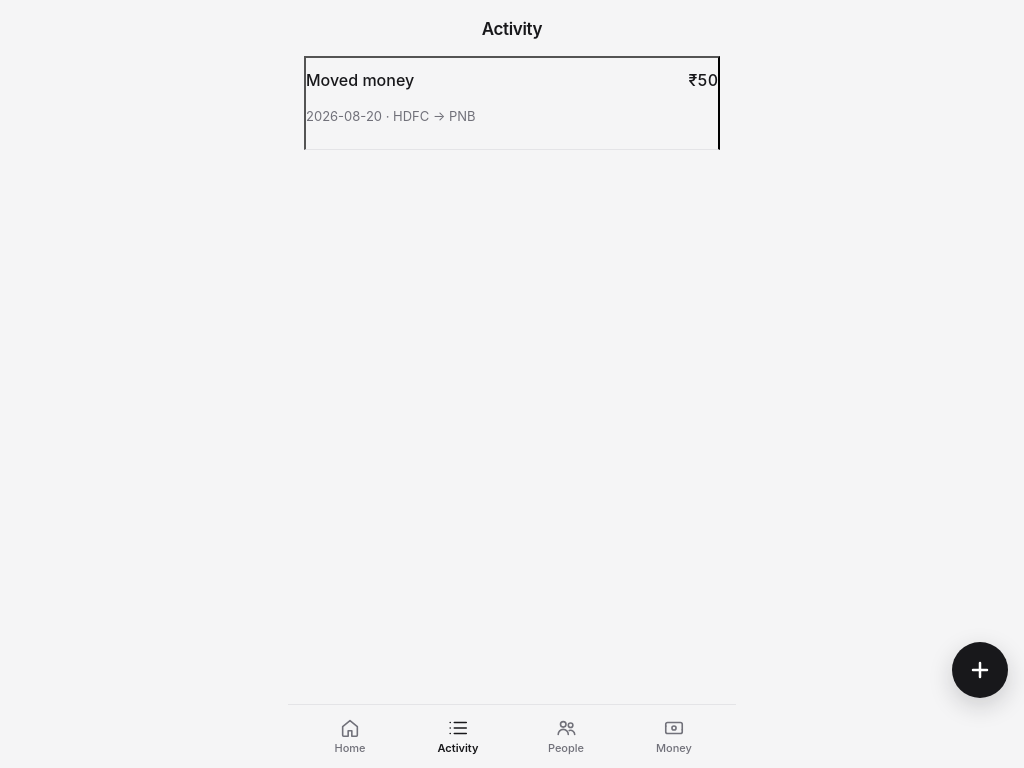
Scenario: correction form family dispatch › does not mount a correction form for unsupported families such as transfer
Click the text "Moved money" at (360, 80), box [306,69,414,92]
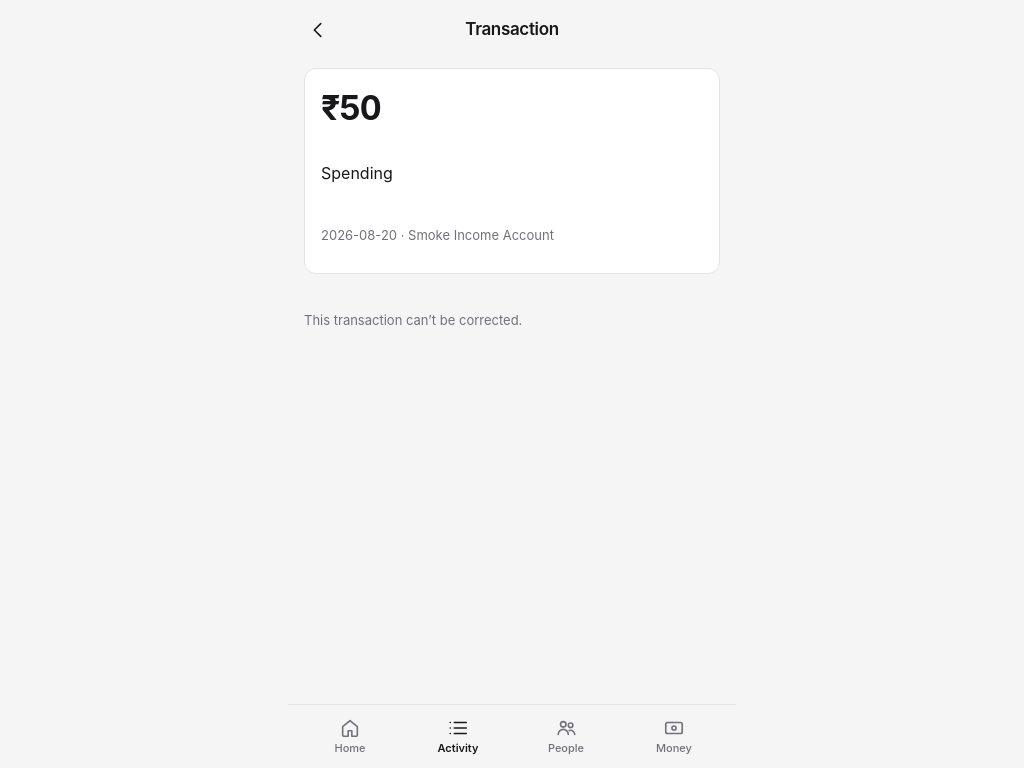
Now the text "This transaction can’t be corrected." is shown, box [304,312,522,328]
